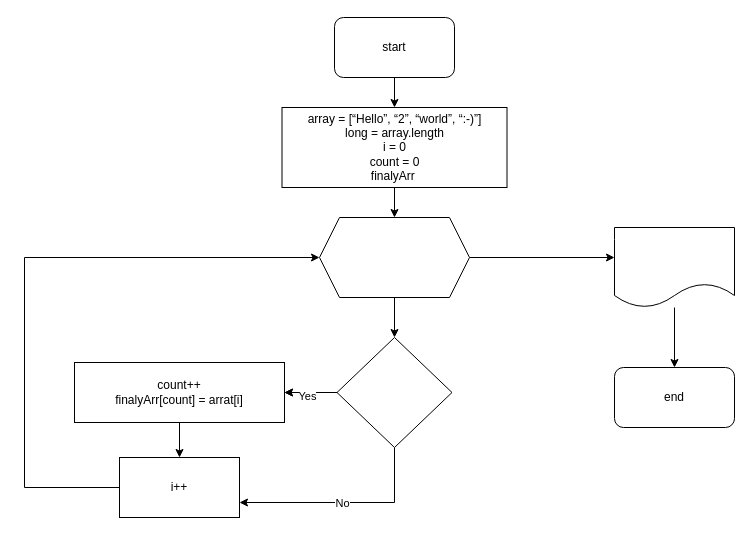
Some shapes in this 752 by 535 pixel diagram are drawn without their labels. Here are the shapes that lost their labels. From the top down, the centre of each, then its label:
At point 394,257: "i < long".
At point 674,267: "finalyArr".
At point 394,392: "array[i].length < 2".
